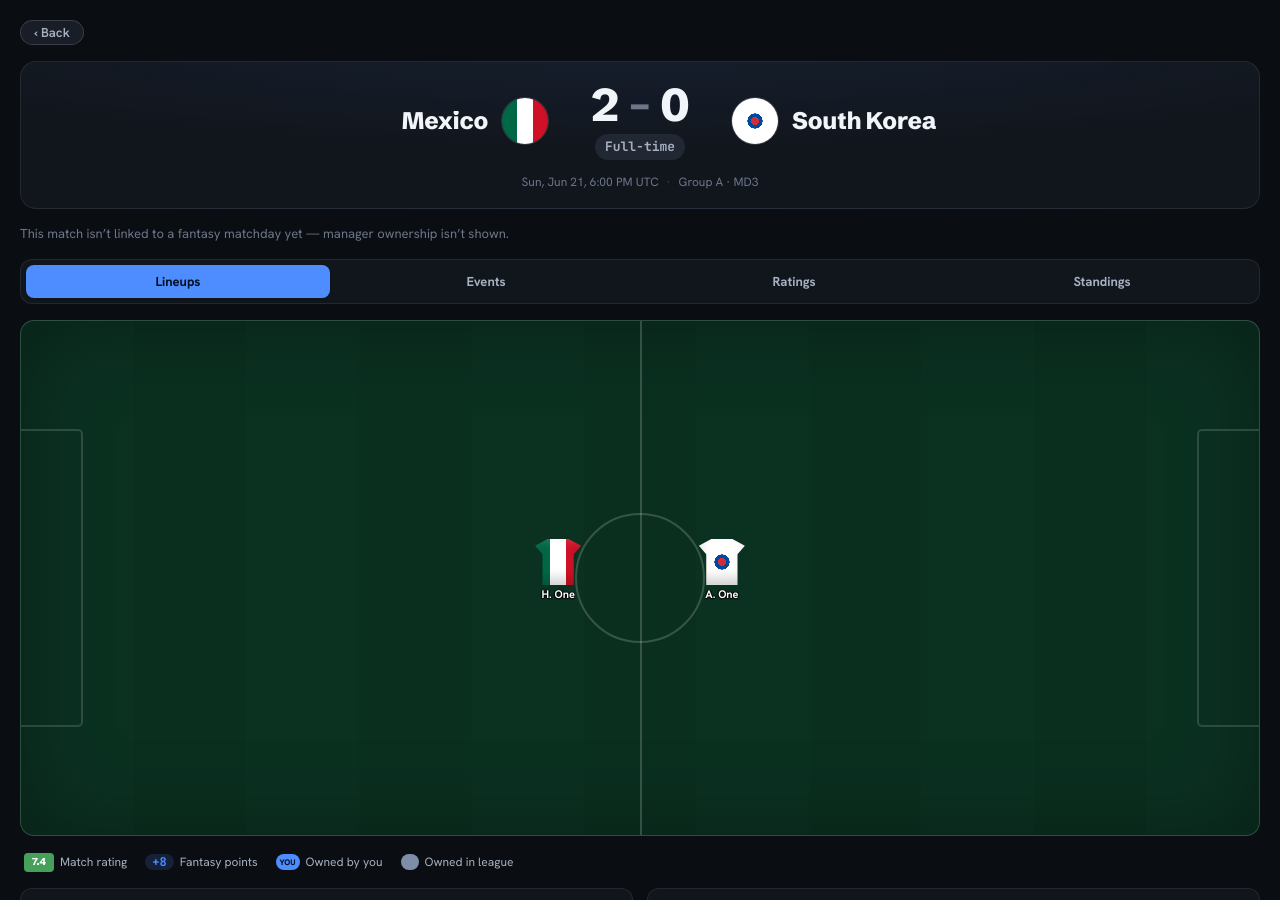
Test: GameDetailClient — Standings tab (T18 render) › shows the Standings tab and renders the sorted group table with cutline + in-match highlights
The image size is (1280, 900).
Click the tab "Standings": x=1102, y=282 [950,265,1254,298]
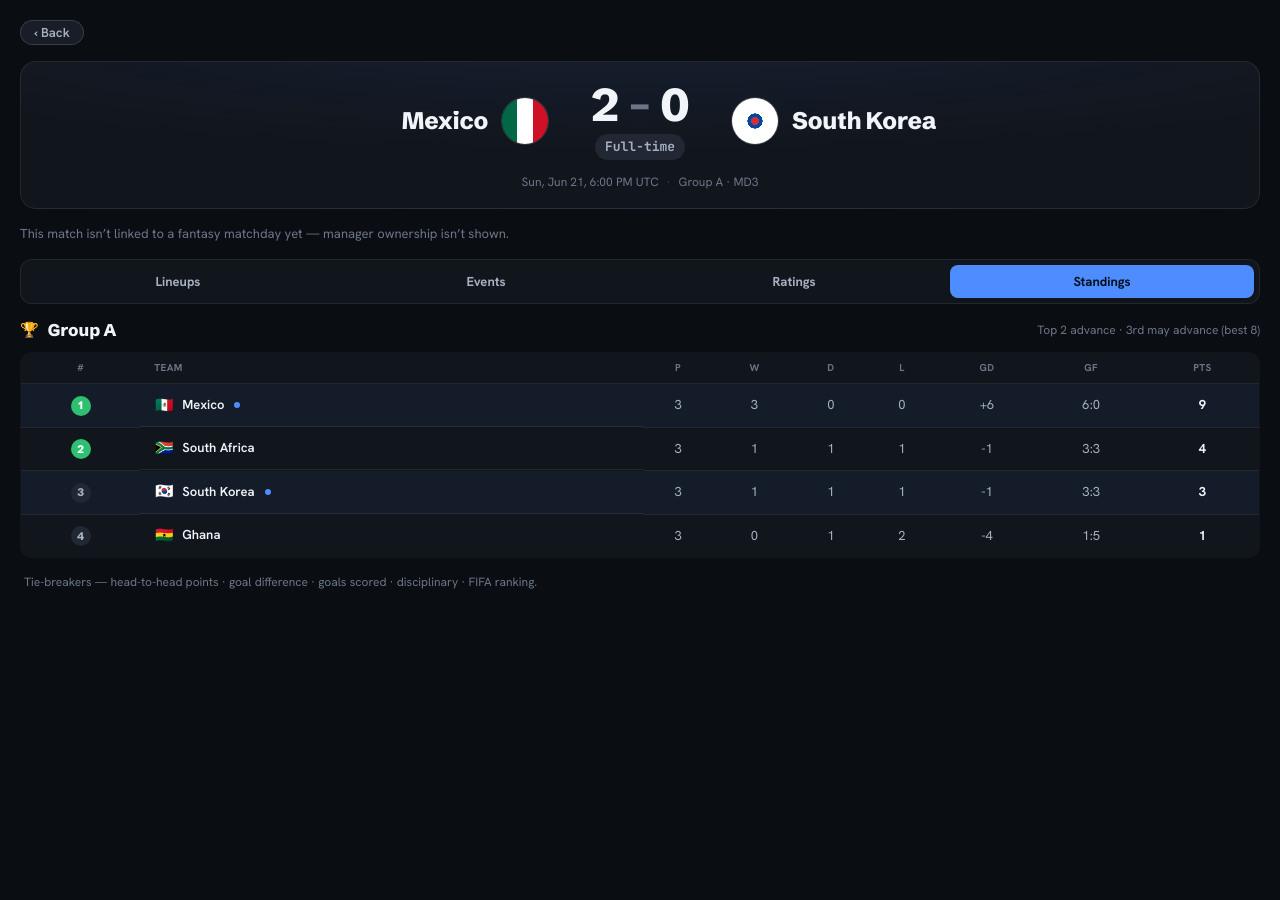
Expected: the element with class "gd-standings" is shown, [20,320,1260,594]
Expected: the element with class "gd-gr-head" shows "Group A", [48,319,116,340]
Expected: the text with class "gd-gr-note" shows "Top 2 advance", [1037,322,1260,338]
